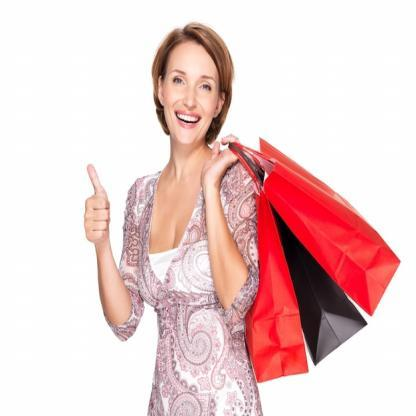thumb_up: (81, 160, 115, 246)
